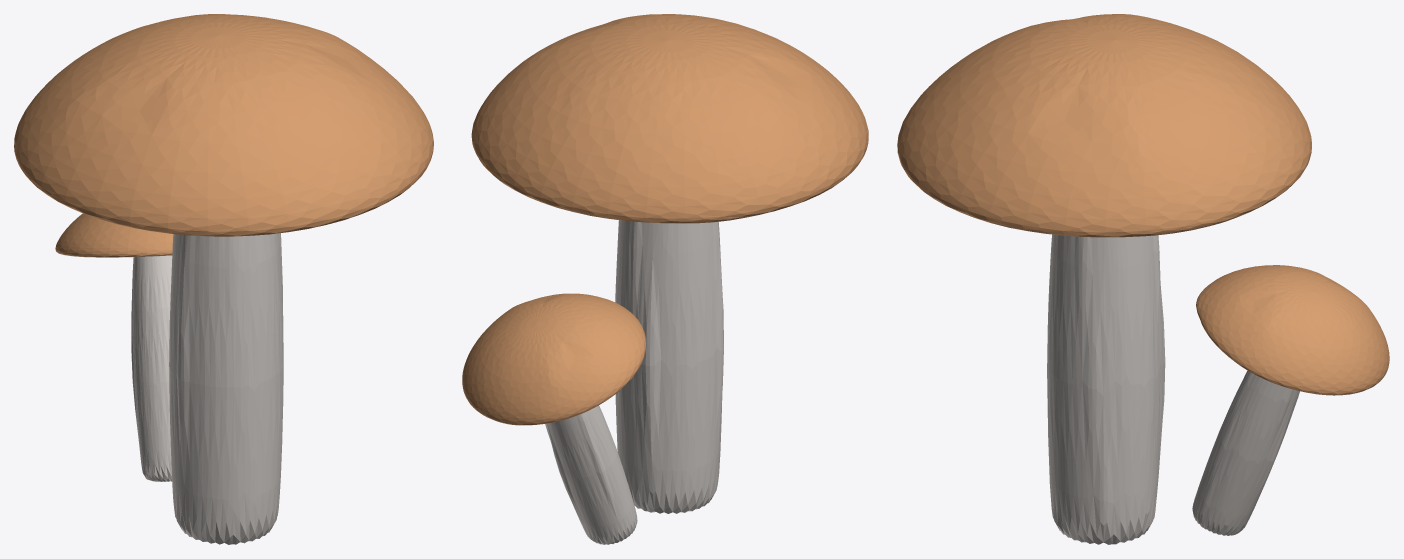
Rendered from grib11.fbx.
3 renders of one model, left to right at view 1: azimuth 30°, elevation 25°; view 2: azimuth 150°, elevation 25°; view 3: azimuth 270°, elevation 25°, orthographic. The views are drawn at different scales.
Parts seen in each view (by area): view 1: Sphere_001, Sphere; view 2: Sphere_001, Sphere; view 3: Sphere_001, Sphere.
Boxes of the visible parts, left/top/right/bottom form: Sphere_001: left=14, top=14, right=433, bottom=544; Sphere: left=55, top=213, right=173, bottom=481; Sphere_001: left=471, top=14, right=868, bottom=513; Sphere: left=462, top=293, right=645, bottom=544; Sphere_001: left=897, top=14, right=1311, bottom=544; Sphere: left=1192, top=265, right=1389, bottom=535.
Size of the model in its own units: 225 by 290 by 265.
